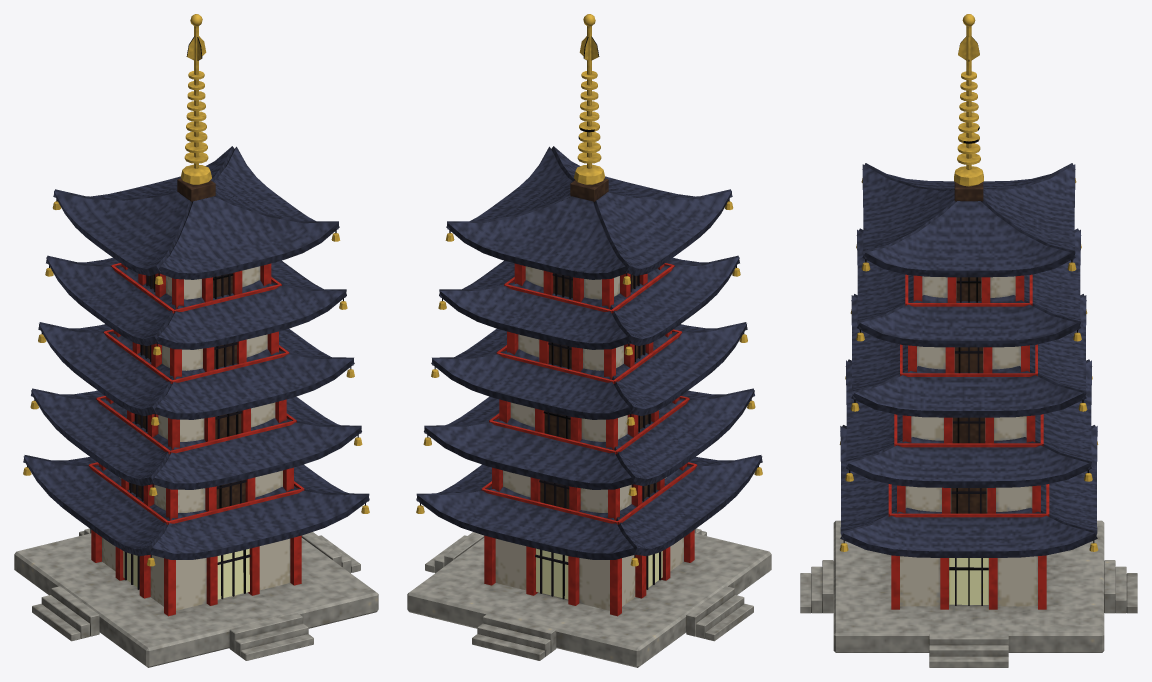
Rendered from pagoda.fbx.
3 views of the same model, side by side, from view 1: azimuth 30°, elevation 25°; view 2: azimuth 150°, elevation 25°; view 3: azimuth 270°, elevation 25° (orthographic).
Parts seen in each view (by area): view 1: pagoda, pagoda_glow; view 2: pagoda, pagoda_glow; view 3: pagoda, pagoda_glow.
Part boxes in pixels (x1,y1,x2,y2): pagoda: [14, 14, 378, 667]; pagoda_glow: [123, 548, 249, 599]; pagoda: [407, 14, 771, 667]; pagoda_glow: [536, 548, 662, 599]; pagoda: [800, 14, 1137, 667]; pagoda_glow: [949, 558, 988, 604].
Size of the model in its own units: 2756 by 5246 by 2756.
Materials: 1 (1 with a texture image).
